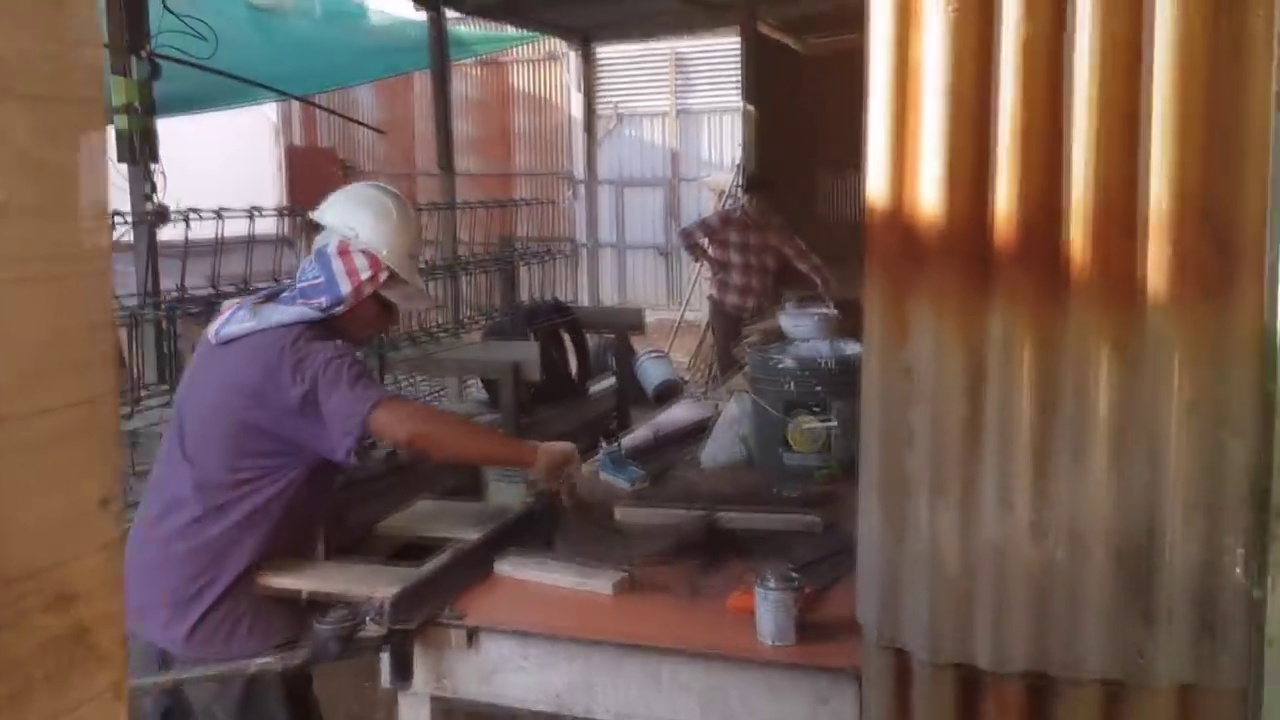helmet: (308, 180, 426, 296)
helmet-off: (740, 167, 777, 224)
helmet-on: (295, 179, 426, 347)
person: (122, 179, 578, 719), (676, 167, 840, 375)
